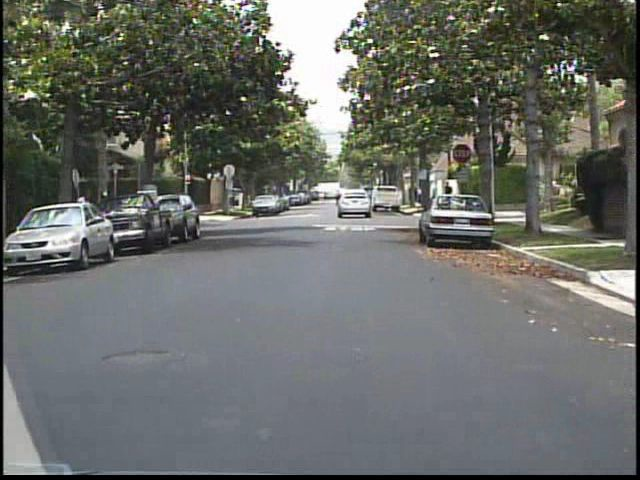person: (75, 187, 97, 245), (439, 177, 456, 213)
